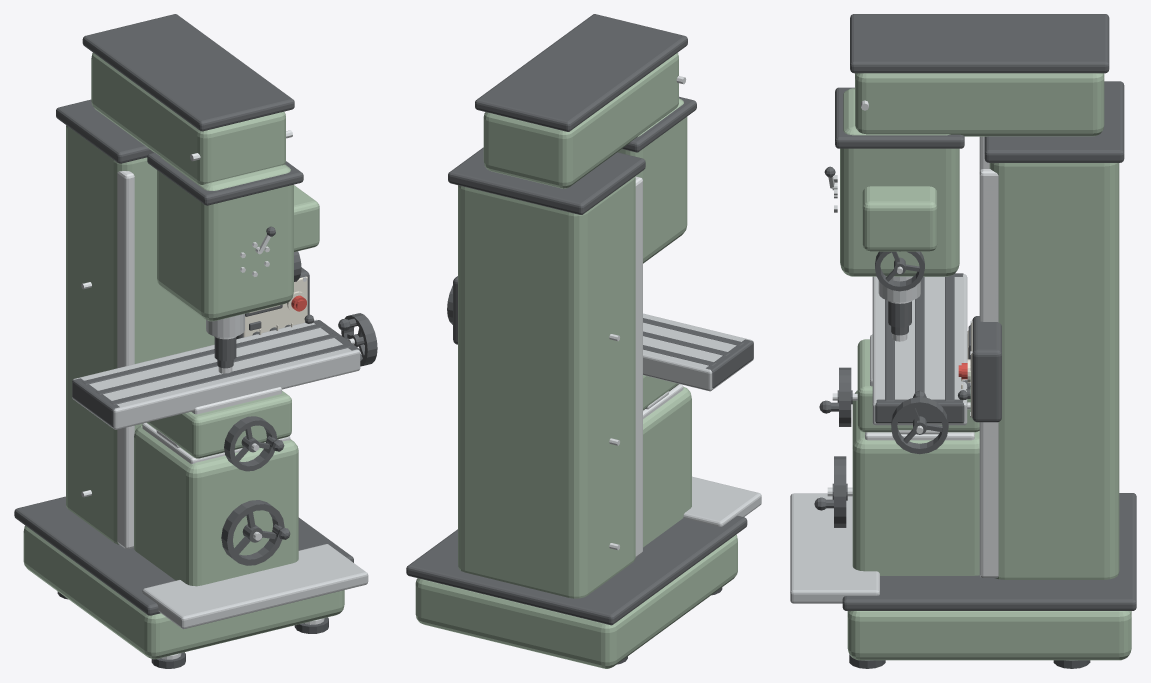
Rendered from FactoryMill.glb.
The picture shows the model from 3 angles, left to right: view 1: azimuth 30°, elevation 25°; view 2: azimuth 150°, elevation 25°; view 3: azimuth 270°, elevation 25°; orthographic projection. The views are drawn at different scales.
Parts seen in each view (by area): view 1: machine-shop-and-factory-hall-milling-machine, table-travelcast, table-travelcharcoal, spindle-spincharcoal; view 2: machine-shop-and-factory-hall-milling-machine, table-travelcast, table-travelcharcoal; view 3: machine-shop-and-factory-hall-milling-machine, table-travelcast, table-travelcharcoal, spindle-spincharcoal.
Part boxes in pixels (x1=…): machine-shop-and-factory-hall-milling-machine: x1=14, y1=14, x2=368, y2=668; table-travelcast: x1=72, y1=319, x2=360, y2=429; table-travelcharcoal: x1=72, y1=313, x2=377, y2=426; spindle-spincharcoal: x1=214, y1=337, x2=236, y2=368; machine-shop-and-factory-hall-milling-machine: x1=406, y1=14, x2=761, y2=668; table-travelcast: x1=643, y1=313, x2=753, y2=391; table-travelcharcoal: x1=447, y1=285, x2=753, y2=388; machine-shop-and-factory-hall-milling-machine: x1=790, y1=14, x2=1136, y2=668; table-travelcast: x1=872, y1=274, x2=967, y2=425; table-travelcharcoal: x1=875, y1=273, x2=964, y2=454; spindle-spincharcoal: x1=888, y1=301, x2=911, y2=335.
Bounding box in the file's own units: 1.35 × 2.5 × 1.34.
